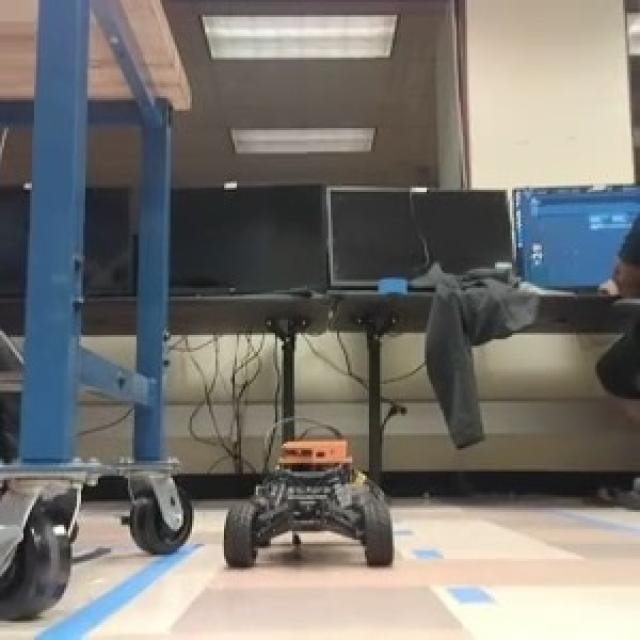obstacle: (220, 434, 404, 575)
